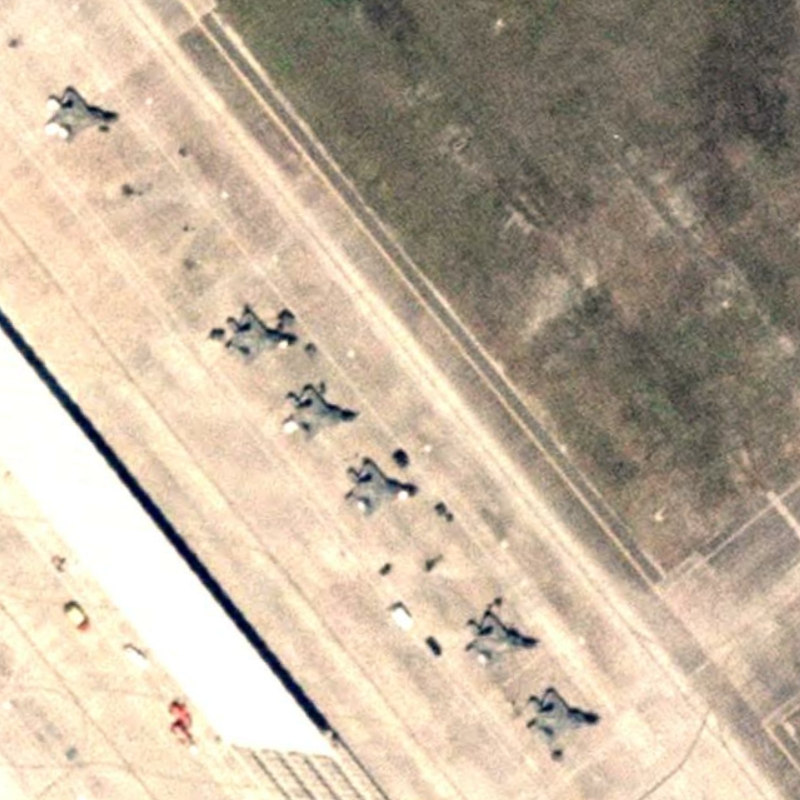A15: (458, 601, 547, 675), (519, 683, 604, 751), (336, 455, 426, 519), (271, 383, 361, 446), (41, 82, 126, 148), (219, 300, 297, 371)
